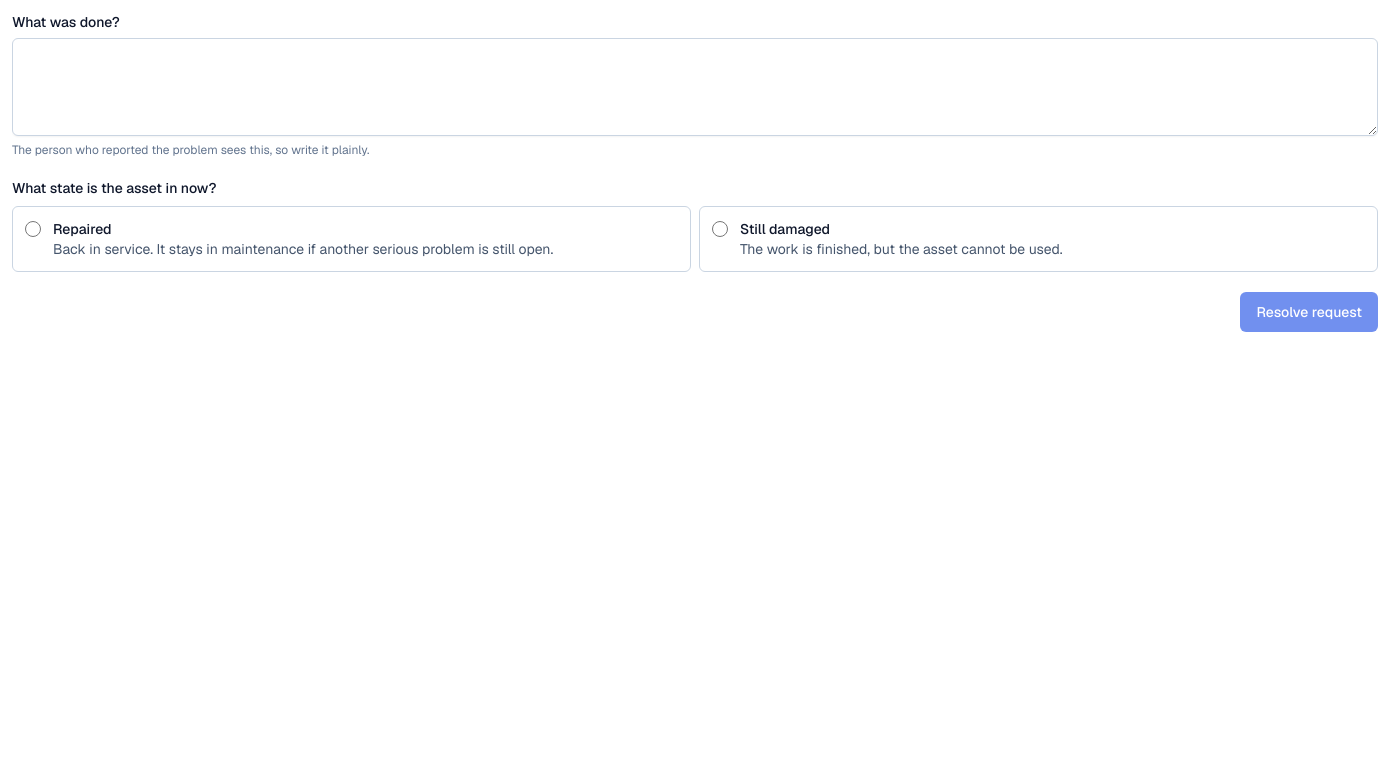
ResolveForm › needs_a_final_state_then_submits_it_with_the_notes
Check: the button "Resolve request" is disabled, box [1240,292,1378,332]
In the text box labelled "What was done?": (695, 87) [12,38,1378,136], type "Replaced the lamp"
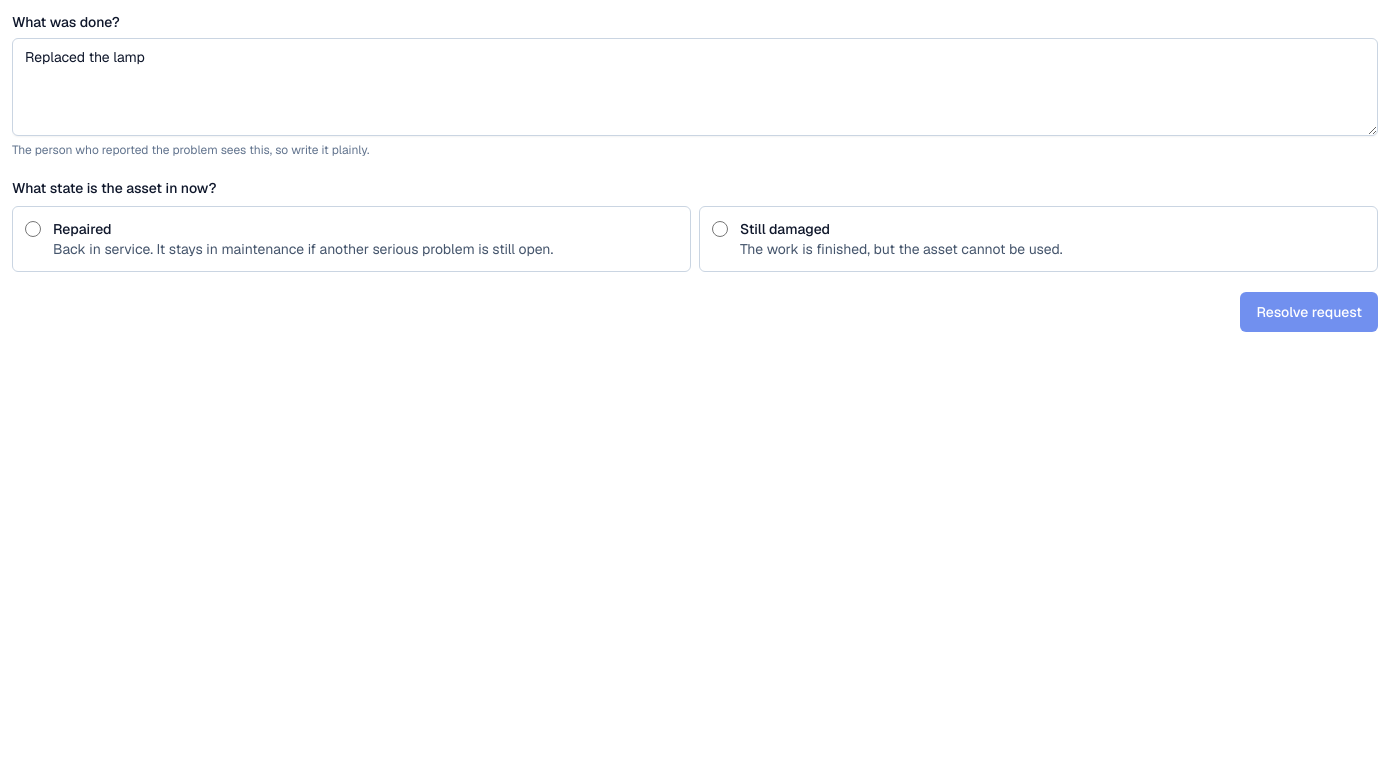
Click the radio button labelled "Repaired": (33, 229) [25,221,41,237]
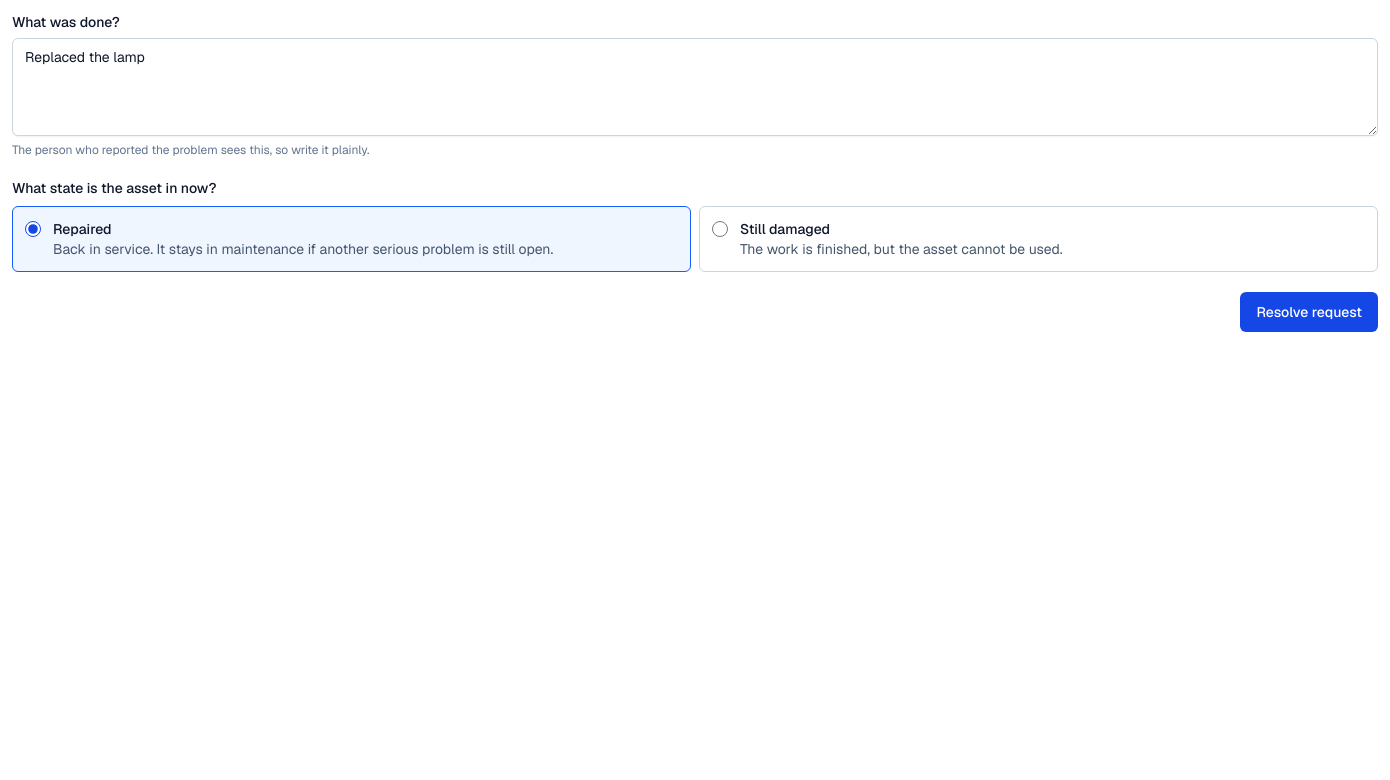
Click the button "Resolve request": (1309, 312) [1240,292,1378,332]
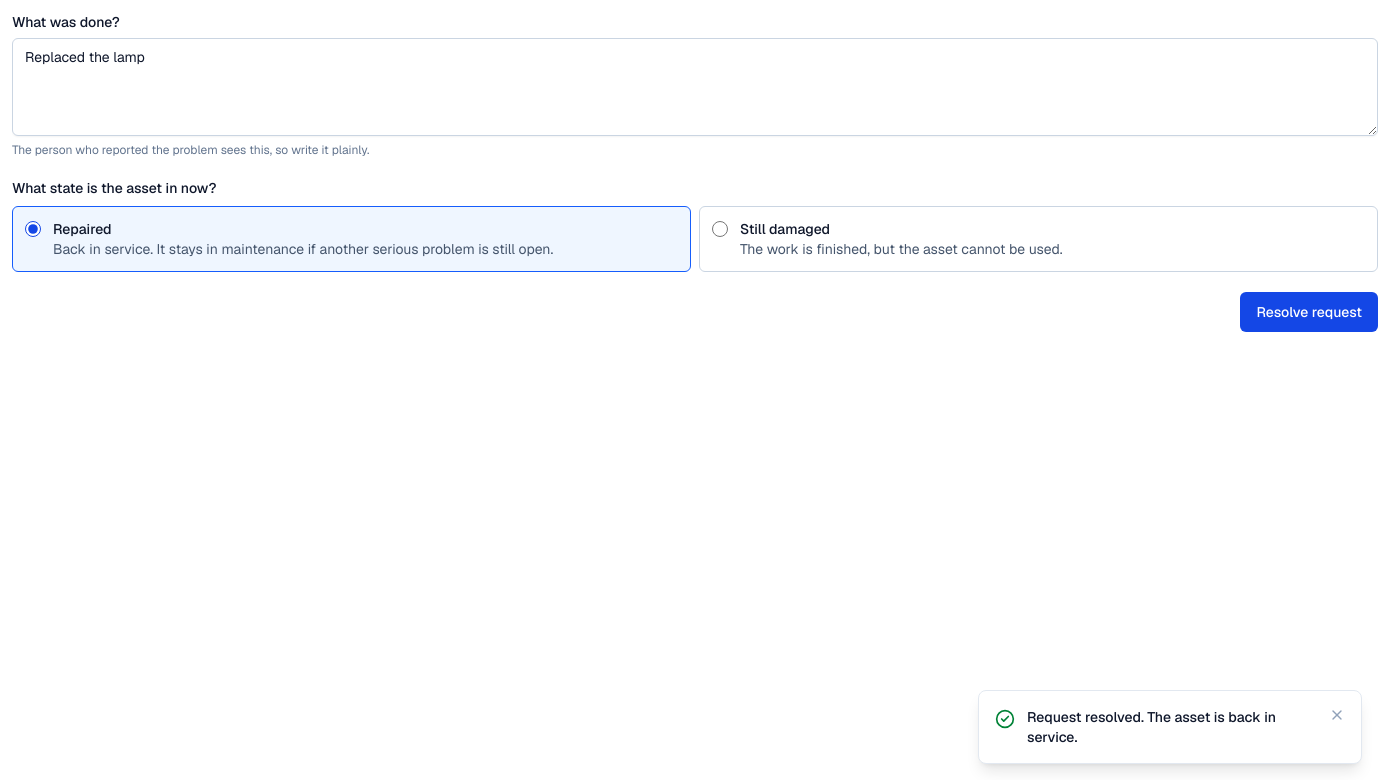
Check: the message reads "Request resolved. The asset is back in service.", box [1027,708,1276,746]
